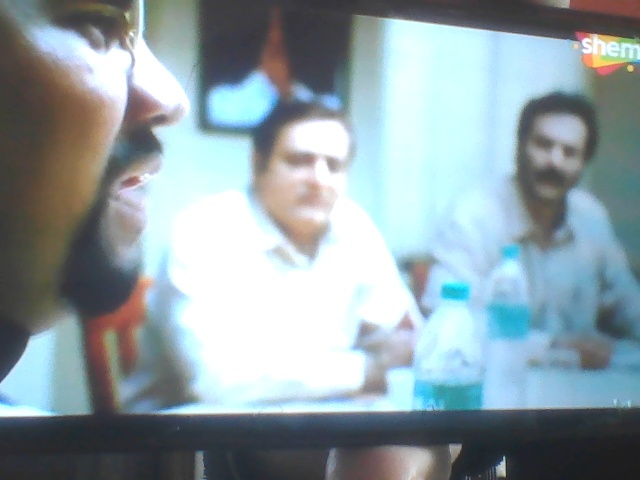fake: (252, 90, 361, 244)
